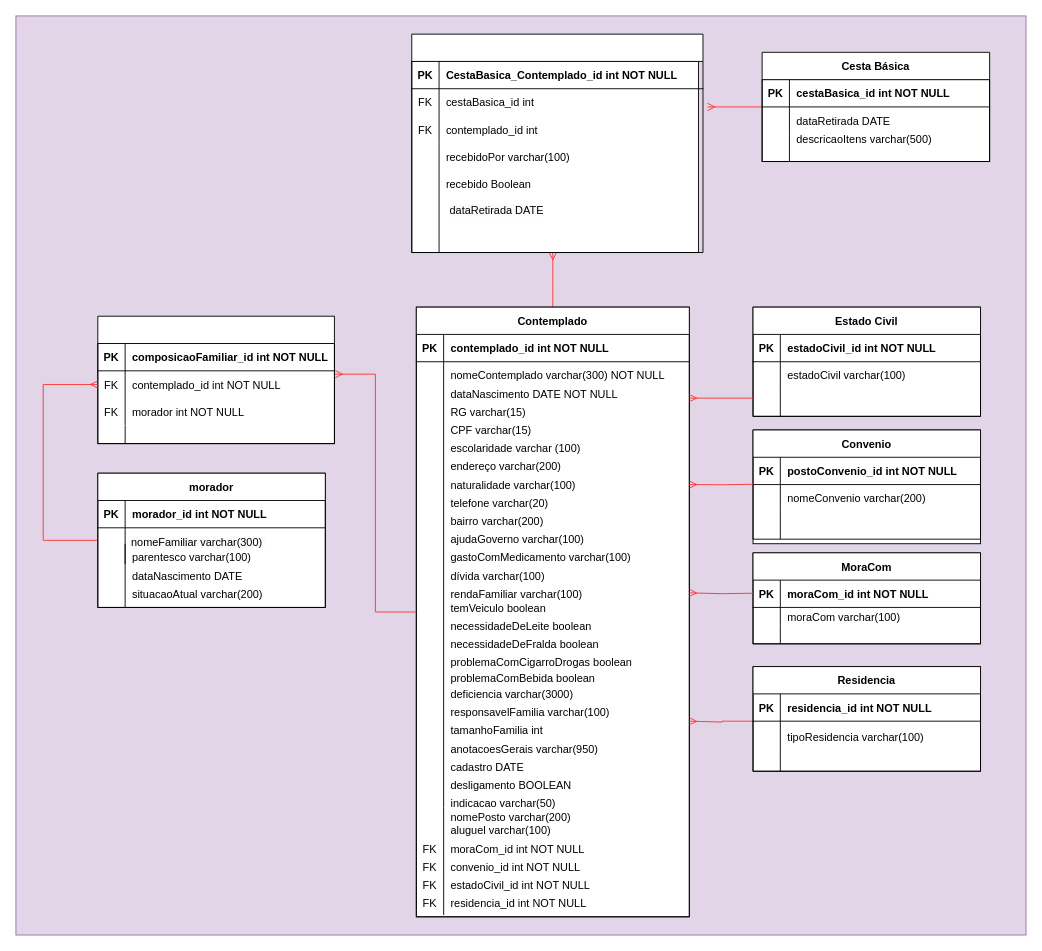
The diagram is 1042 pixels wide and 951 high, and some of its shapes have lost their labels. Each missing label, with the centre of its shape:
"CestaBasica_Contemplado" belongs at [557,143].
"Composição Familiar" belongs at [215,379].
